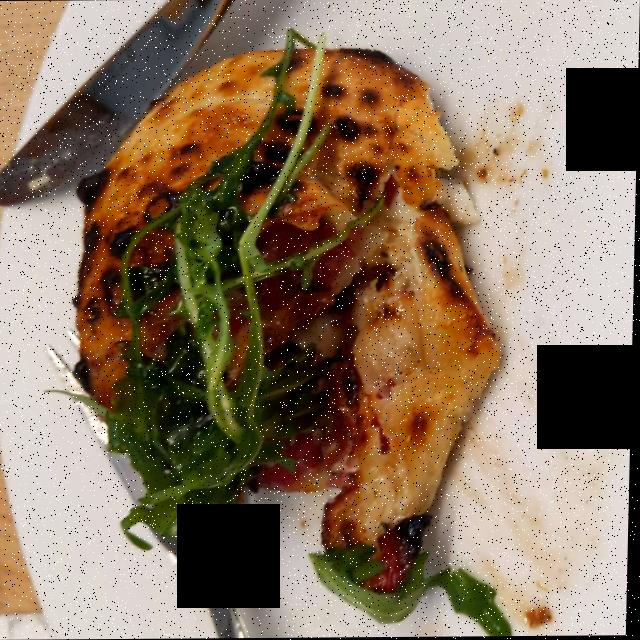pizza-with-ham-baked: (69, 45, 511, 587)
salad-rocket: (69, 59, 381, 561)
